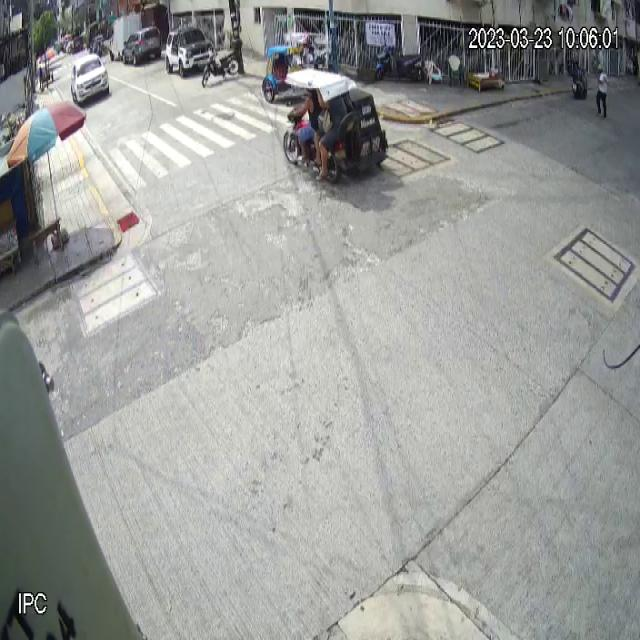Tricycle: (284, 67, 388, 185)
